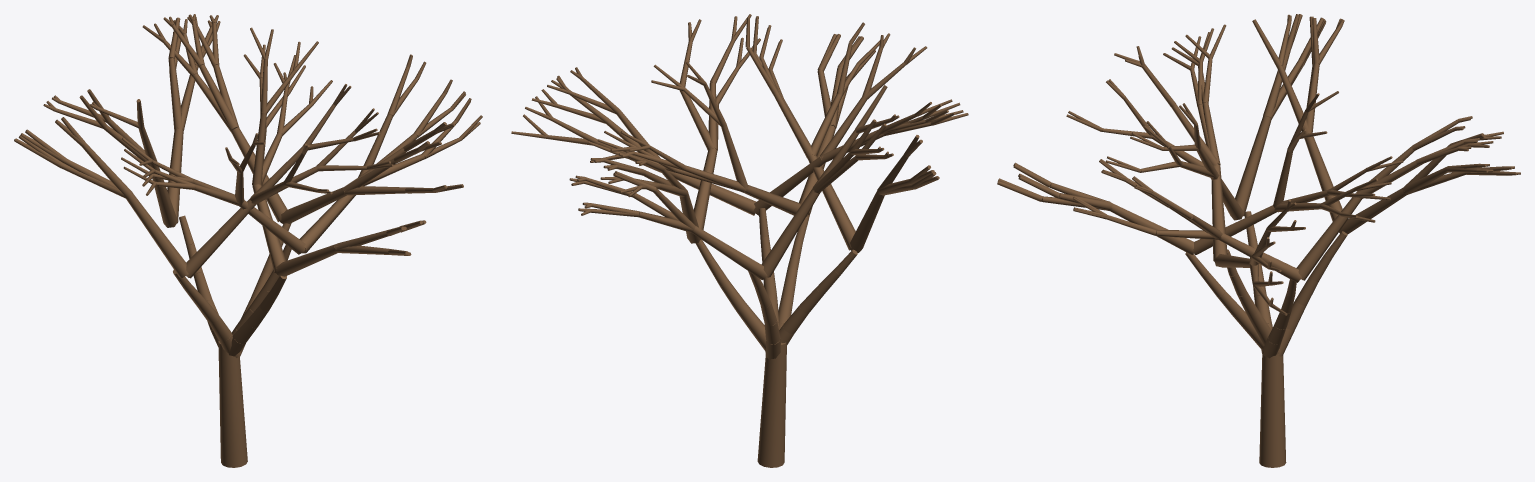
The model's file is acer-buergerianum-tel.glb.
3 renders of one model, left to right at view 1: azimuth 30°, elevation 25°; view 2: azimuth 150°, elevation 25°; view 3: azimuth 270°, elevation 25°, orthographic.
Parts seen in each view (by area): view 1: torzs, gally-5-1, gally-0-1, gally-9-1, gally-1-1, gally-4-1, gally-2-1, gally-6-1, gally-8-1, gally-7-1, gally-3-1, gally-7-2 (+4 smaller); view 2: torzs, gally-3-1, gally-0-2 (×2), gally-7-2 (×2), gally-0-1, gally-8-1, gally-9-1, gally-1-1, gally-5-1, gally-4-1, gally-7-1, gally-4-2 (+2 smaller); view 3: torzs, gally-5-1, gally-6-1, gally-4-1, gally-2-1, gally-3-1, gally-1-1, gally-7-1, gally-8-1, gally-3-2.
Boxes of the visible parts, x1,y1,x2,y2 form: torzs: (218, 341, 247, 467); gally-5-1: (126, 193, 188, 277); gally-0-1: (186, 198, 255, 278); gally-9-1: (299, 185, 363, 253); gally-1-1: (280, 187, 346, 224); gally-4-1: (239, 200, 305, 254); gally-2-1: (275, 244, 337, 276); gally-6-1: (231, 127, 287, 221); gally-8-1: (167, 128, 183, 223); gally-7-1: (252, 184, 285, 273); gally-3-1: (152, 166, 177, 227); gally-7-2: (252, 112, 266, 185); torzs: (757, 342, 786, 467); gally-3-1: (761, 188, 819, 277); gally-0-2 (×2): (773, 91, 842, 157); gally-7-2 (×2): (684, 124, 748, 192); gally-0-1: (807, 154, 855, 250); gally-8-1: (691, 226, 767, 279); gally-9-1: (668, 171, 756, 215); gally-1-1: (693, 148, 717, 239); gally-5-1: (850, 190, 884, 252); gally-4-1: (753, 156, 824, 215); gally-7-1: (743, 185, 807, 216); gally-4-2: (820, 96, 866, 157); torzs: (1259, 354, 1286, 467); gally-5-1: (1235, 115, 1271, 216); gally-6-1: (1296, 193, 1361, 280); gally-4-1: (1211, 164, 1227, 261); gally-2-1: (1109, 203, 1193, 254); gally-3-1: (1304, 133, 1342, 221); gally-1-1: (1218, 232, 1301, 282); gally-7-1: (1193, 205, 1277, 255); gally-8-1: (1339, 188, 1406, 234); gally-3-2: (1277, 65, 1309, 134).
Size of the model in its own units: 8.02 by 6.9 by 8.19.
